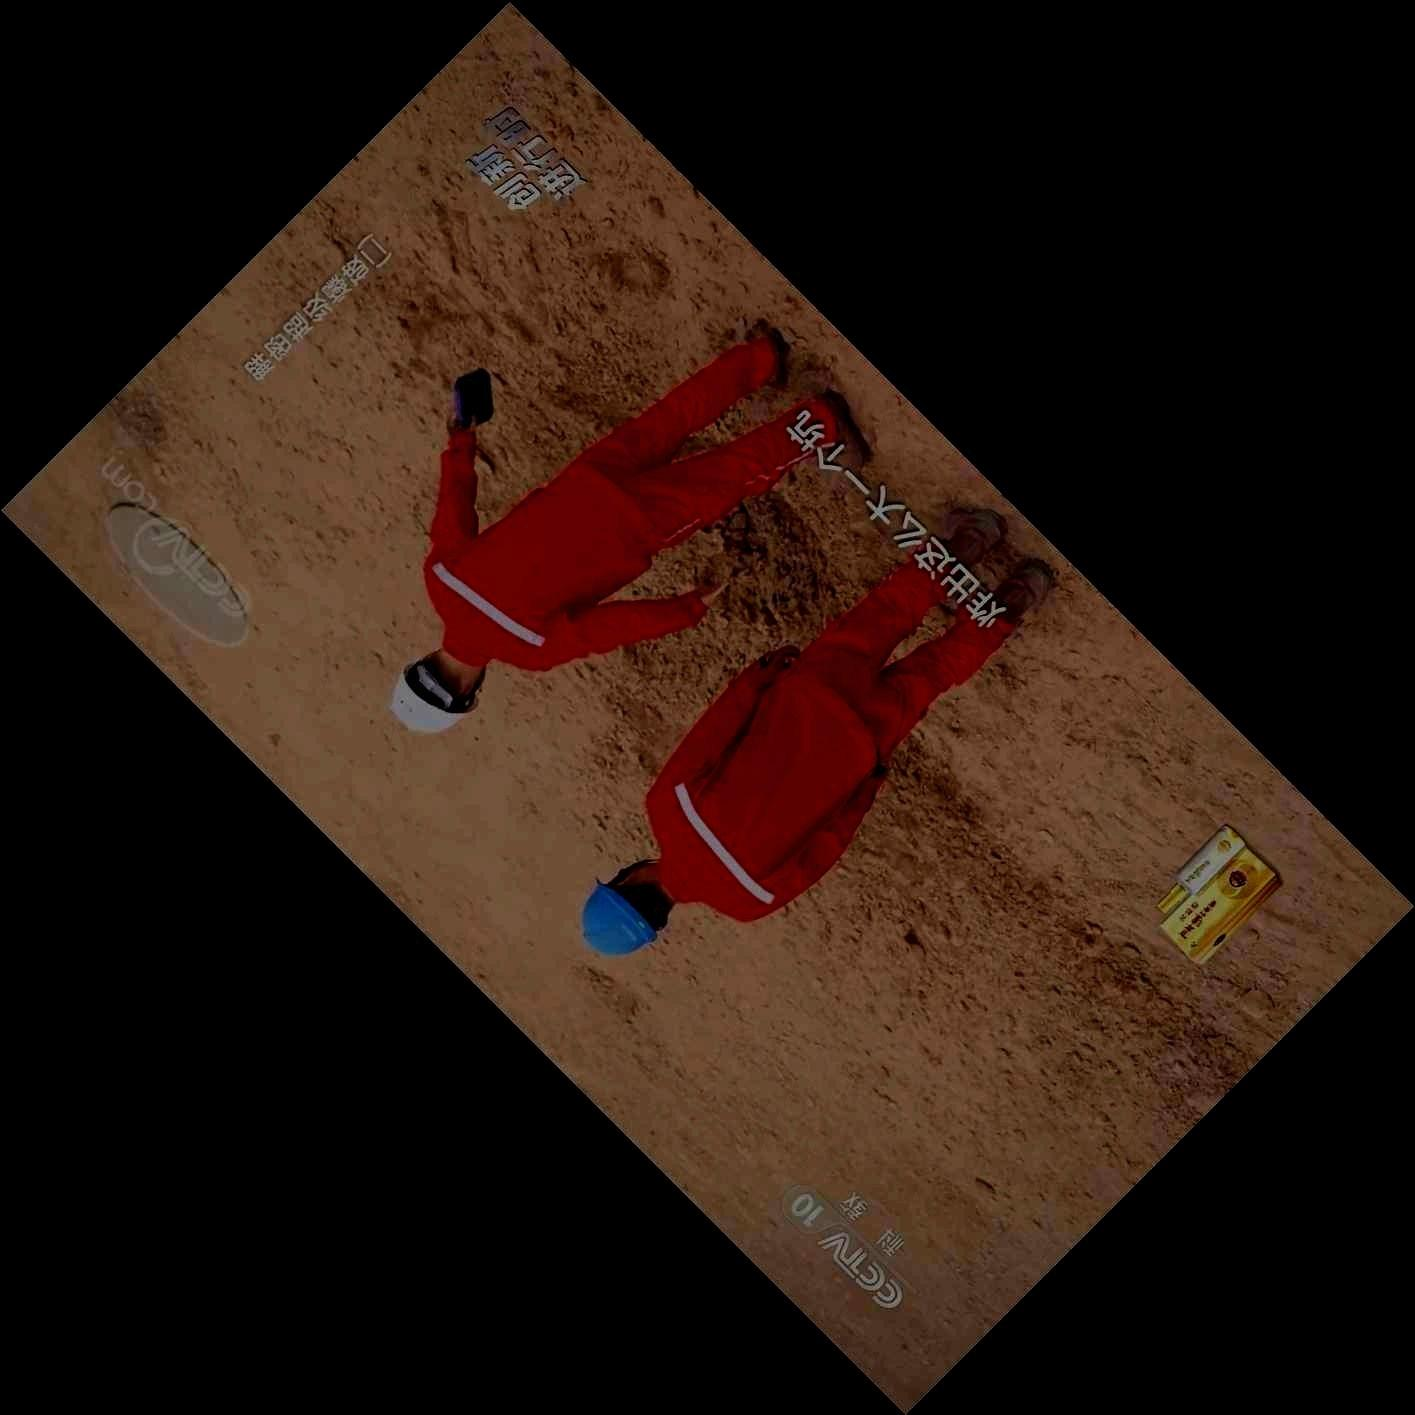helmet: (579, 860, 673, 959), (387, 648, 487, 737)
